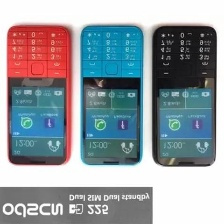phone: (4, 20, 75, 169), (77, 21, 146, 170), (150, 22, 219, 170)
